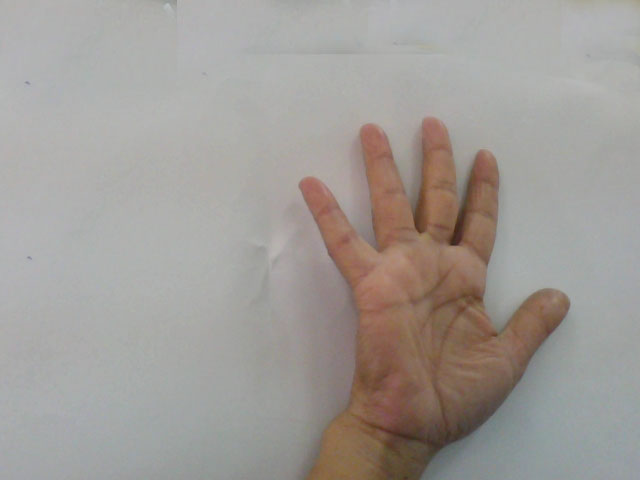hand: (285, 106, 590, 436)
